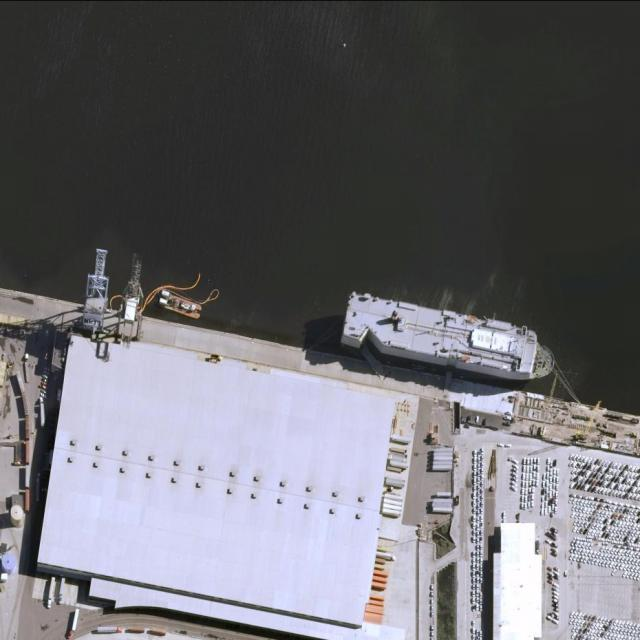RoRo: (334, 287, 564, 389)
